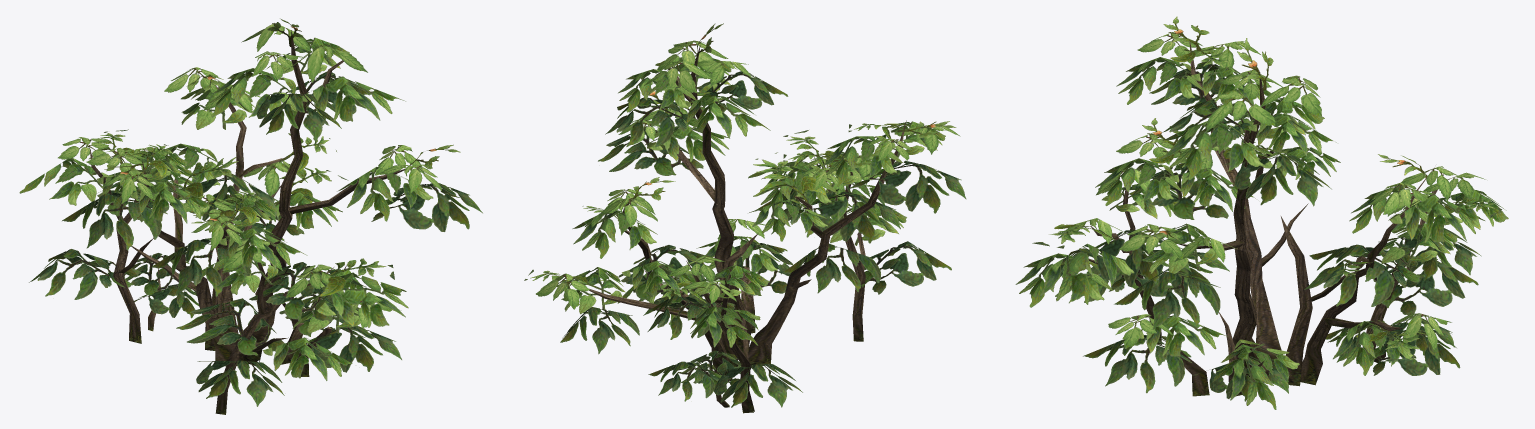
Rendered from 2014_Item_cao_3.FBX.
The picture shows the model from 3 angles, left to right: view 1: azimuth 30°, elevation 25°; view 2: azimuth 150°, elevation 25°; view 3: azimuth 270°, elevation 25°; orthographic projection. The views are drawn at different scales.
Visible parts, largest first — view 1: 2014_Item_cao_3; view 2: 2014_Item_cao_3; view 3: 2014_Item_cao_3.
Boxes of the visible parts, x1,y1,x2,y2 form: 2014_Item_cao_3: (19, 18, 482, 414); 2014_Item_cao_3: (524, 23, 966, 413); 2014_Item_cao_3: (1015, 16, 1508, 409).
Bounding box in the file's own units: 163 × 134 × 171.
